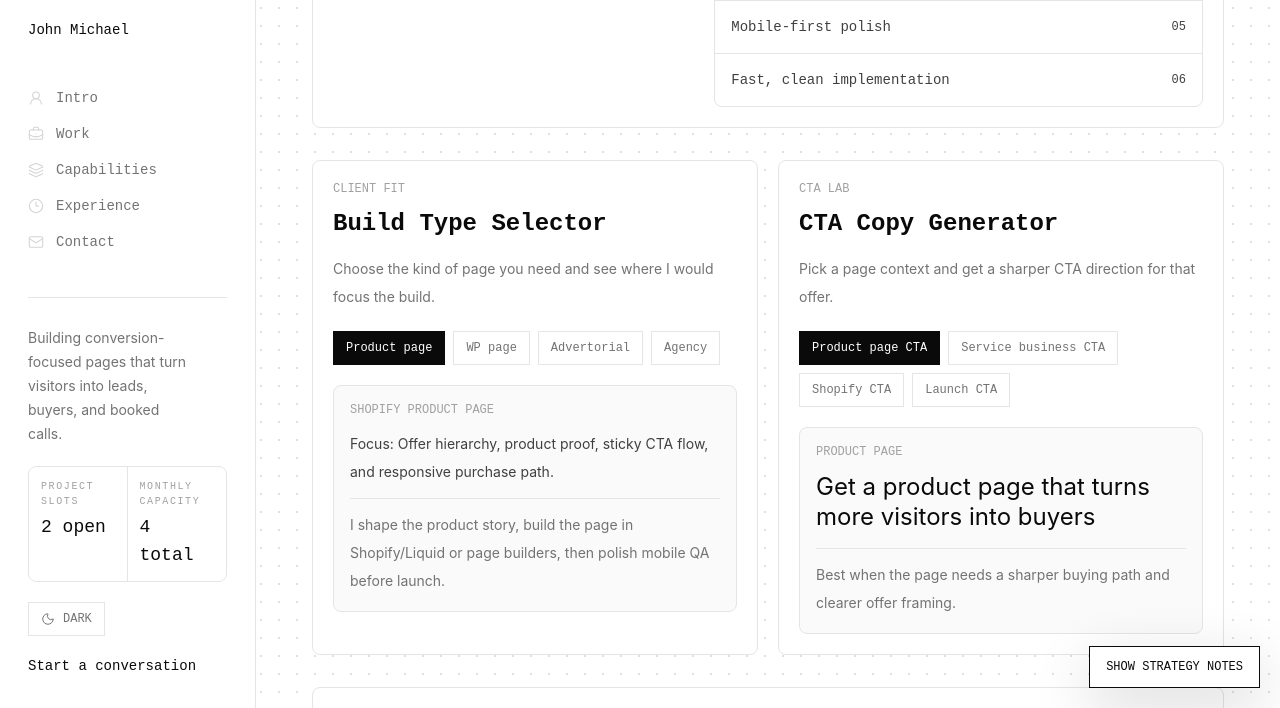
Test: Portfolio landing page › helps visitors choose a build type and generate sharper CTA copy
(page scrolled)
Expected: the heading "Build Type Selector" is shown, [333,210,607,237]
Expected: the text "Shopify product page" is shown, [350,403,494,417]
Click the button "Advertorial" at (590, 348), box [538,331,643,365]
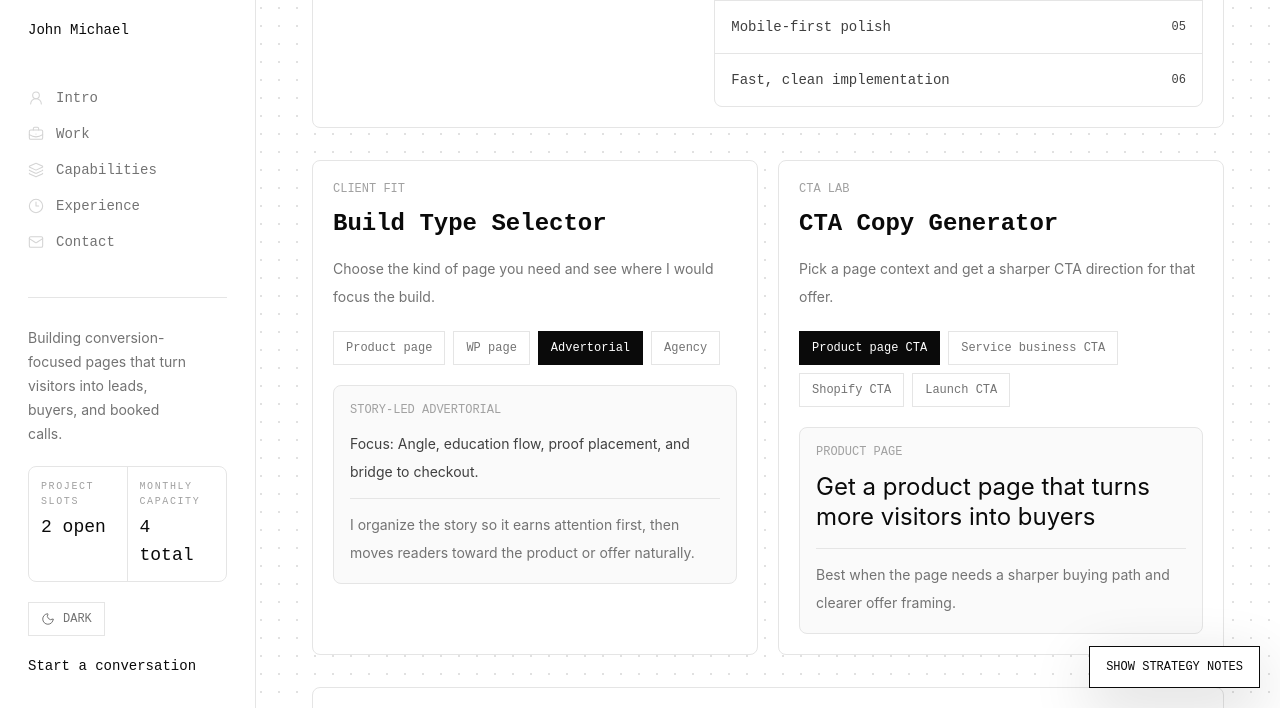
Expected: the heading "CTA Copy Generator" is shown, [799,210,1058,237]
Expected: the text "Story-led advertorial" is shown, [350,403,501,417]
Expected: the text "Angle, education flow, proof placement, and bridge to checkout" is shown, [350,435,690,480]
Click the button "Service business CTA" at (1033, 348), box [948,331,1118,365]
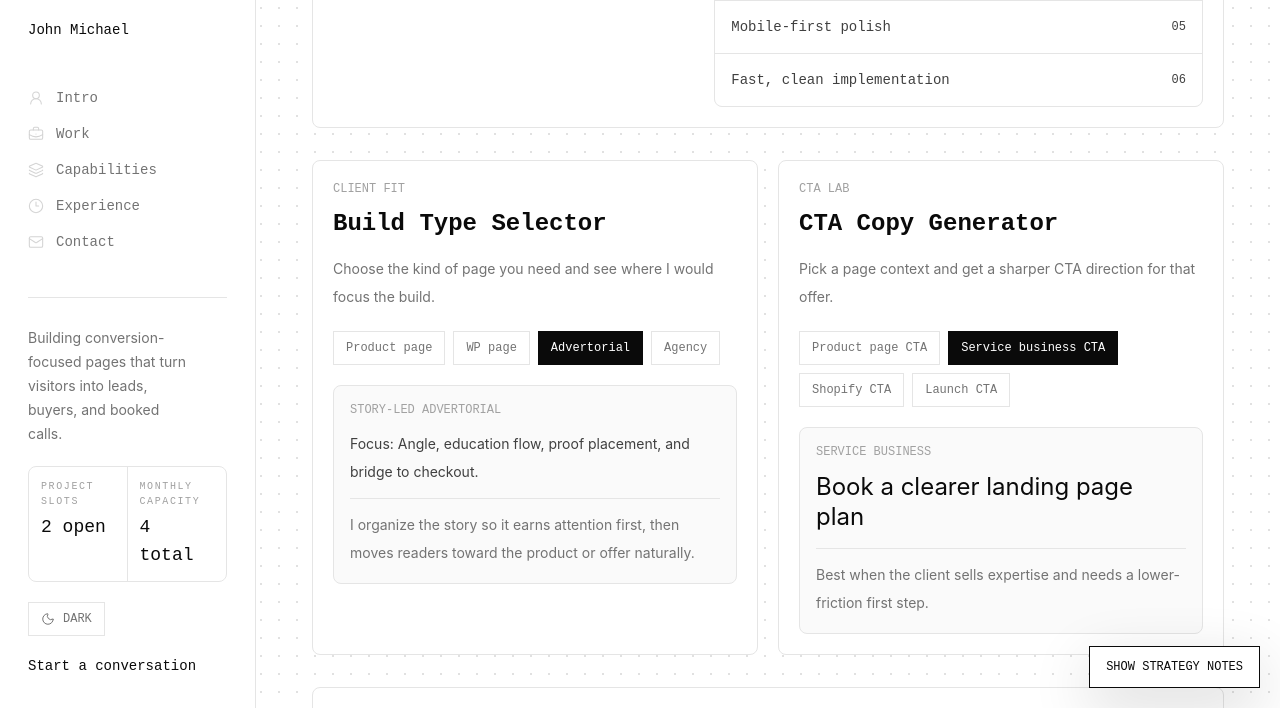
Expected: the text "Book a clearer landing page plan" is shown, [816,472,1186,532]
